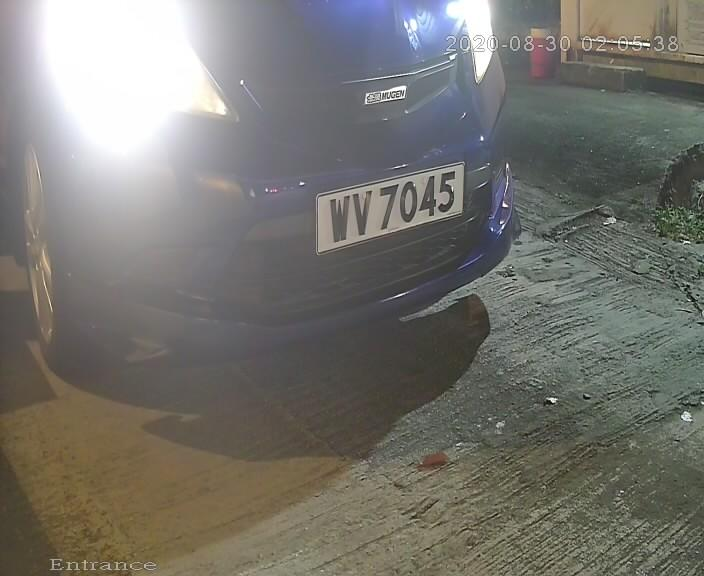License Plate: (315, 155, 469, 263)
